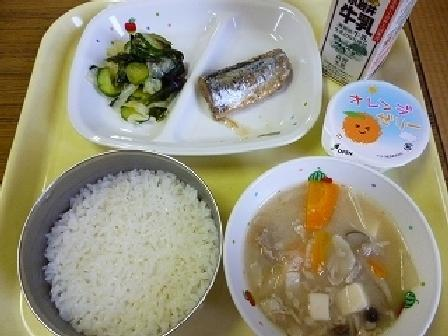Cup desserts: (314, 75, 443, 170)
Fish: (199, 46, 299, 139)
Milk: (310, 0, 420, 78)
Rice: (22, 154, 223, 331)
Salad: (81, 24, 191, 117)
Soups: (228, 170, 440, 336)
